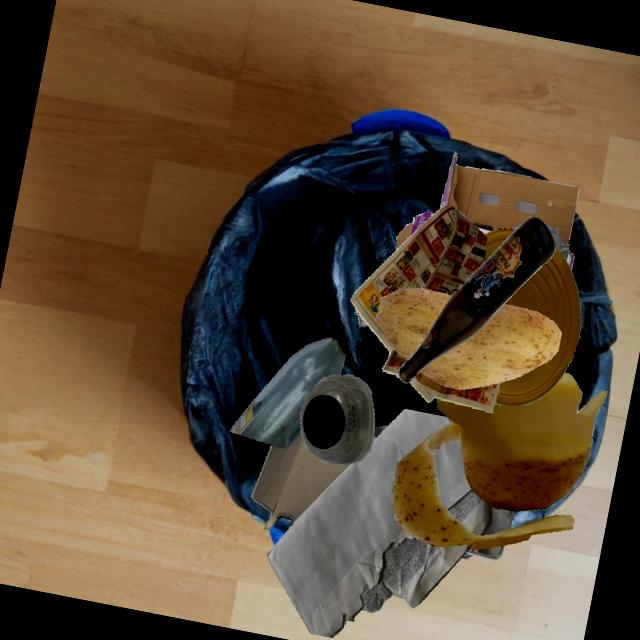biowaste: (392, 373, 607, 550), (421, 304, 561, 390), (376, 288, 452, 360)
cardboard: (396, 240, 568, 375), (439, 152, 579, 245), (388, 426, 481, 550), (251, 434, 352, 530), (426, 219, 511, 240), (481, 506, 514, 536), (465, 545, 505, 561), (374, 425, 388, 438)
glass: (398, 217, 555, 383), (229, 337, 346, 449)
paper: (267, 409, 473, 638), (350, 205, 488, 376)
plastic: (366, 226, 547, 323), (495, 245, 581, 405), (300, 375, 374, 465)
